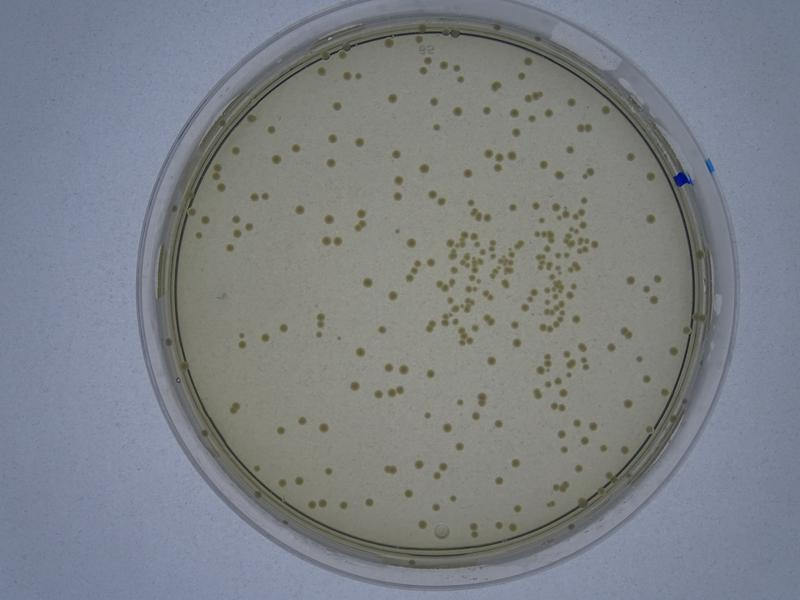colony: (644, 213, 660, 226), (438, 420, 454, 433), (485, 351, 497, 367), (224, 241, 237, 255), (506, 200, 520, 213), (450, 105, 464, 118), (386, 93, 400, 105), (460, 167, 474, 179), (321, 465, 335, 477), (603, 342, 617, 354), (291, 476, 306, 487), (319, 416, 328, 434), (454, 439, 466, 452), (428, 93, 438, 108), (354, 138, 367, 149), (362, 276, 373, 289), (258, 332, 271, 343), (271, 153, 282, 166), (625, 273, 635, 287), (373, 325, 387, 335), (383, 361, 393, 375), (510, 457, 521, 469), (538, 158, 548, 171), (324, 213, 335, 224), (266, 124, 277, 135), (333, 100, 343, 112), (418, 162, 428, 174), (391, 192, 403, 202), (324, 159, 335, 169), (390, 148, 401, 158), (296, 416, 306, 427), (399, 363, 408, 375), (293, 204, 303, 214), (406, 237, 416, 247), (279, 324, 289, 334), (275, 426, 285, 436), (387, 291, 396, 302), (356, 347, 365, 358), (350, 380, 359, 391), (571, 313, 580, 324), (493, 476, 504, 485), (328, 133, 337, 143), (293, 142, 301, 153), (426, 368, 435, 377)
